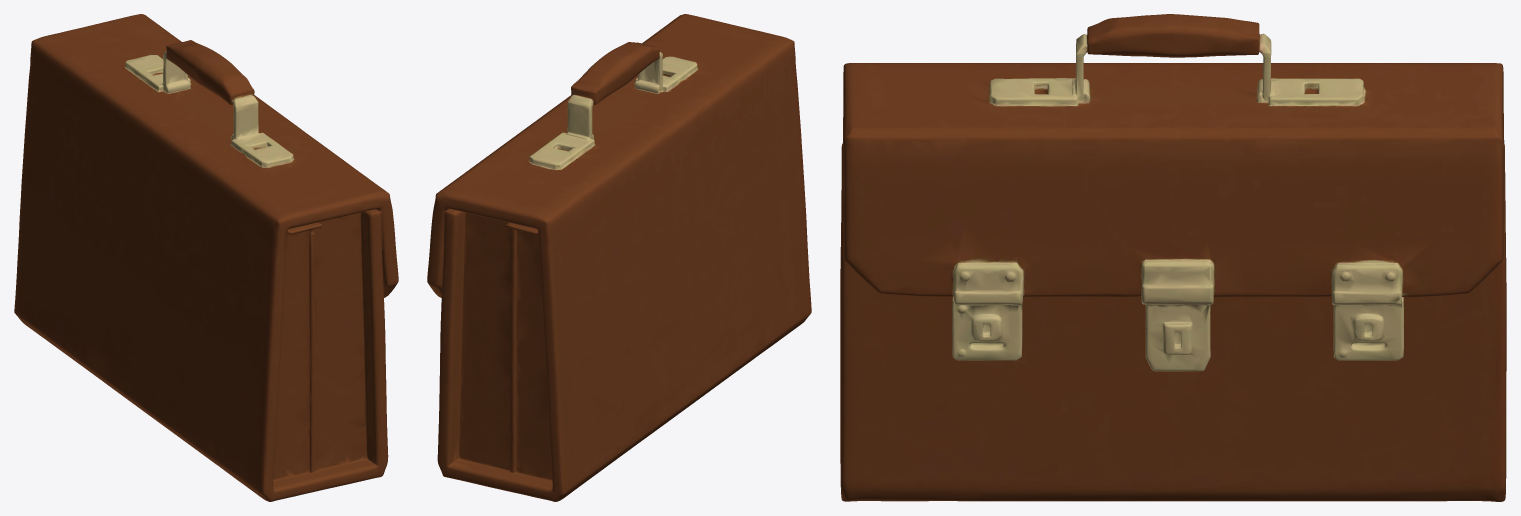
Rendered from briefcase.glb.
The picture shows the model from 3 angles, left to right: view 1: azimuth 30°, elevation 25°; view 2: azimuth 150°, elevation 25°; view 3: azimuth 270°, elevation 25°; orthographic projection. The views are drawn at different scales.
Parts seen in each view (by area): view 1: geometry_0; view 2: geometry_0; view 3: geometry_0.
Part boxes in pixels (x1=…): geometry_0: x1=14, y1=14, x2=398, y2=501; geometry_0: x1=427, y1=14, x2=811, y2=501; geometry_0: x1=840, y1=14, x2=1506, y2=501.
Size of the model in its own units: 0.1763 by 0.3758 by 0.4999.
1 material, 1 textured.
